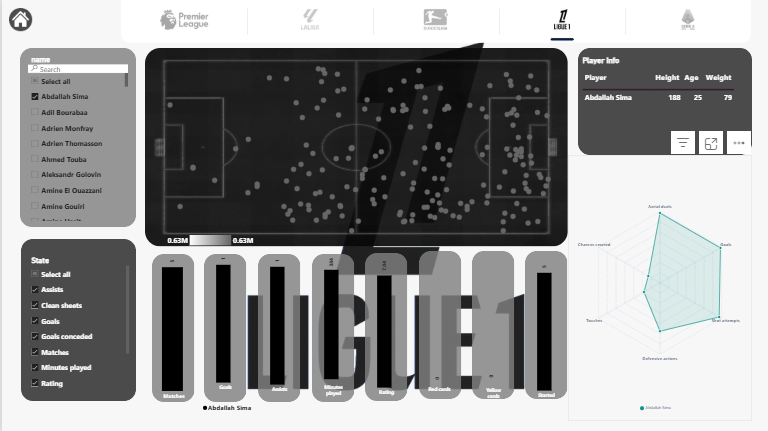

The page's visual inventory and layout, read from the dashboard file:
{"tool":"powerbi","page":{"name":"P_Ligue 1","canvas":[1920,1080],"ordinal":9},"visuals":[{"type":"image","box":[357.5,120,1056.7,495.6],"z":0,"group":"g1"},{"type":"shape","box":[505.7,634.3,106,370],"z":1000},{"type":"shape","box":[640,634.3,106,370],"z":2000},{"type":"shape","box":[774.3,634.3,106,370],"z":3000},{"type":"scatterChart","fields":{"Series":["Player_Dim.name"],"X":["Facts Table.Heatmap_X"],"Y":["Facts Table.Heatmap_Y"]},"box":[396.6,142.2,990.4,491.1],"z":4000,"group":"g1"},{"type":"shape","box":[907.1,632.9,106,370],"z":4000},{"type":"shape","box":[1041.4,627.1,106,370],"z":5000},{"type":"shape","box":[1174.3,627.1,106,370],"z":6000},{"type":"shape","box":[1308.6,627.1,106,370],"z":7000},{"type":"shape","box":[376,634,106,370],"z":8000},{"type":"shape","box":[47.5,597.5,287.5,405],"z":9000},{"type":"shape","box":[45,120,290,447.5],"z":10000},{"type":"image","box":[17.5,15,57.5,67.5],"z":11000},{"type":"image","box":[297.5,0,1575,107.5],"z":12000},{"type":"slicer","fields":{"Values":["Player_Dim.name"]},"box":[65,137.5,250,415],"z":13000},{"type":"group","id":"g1","title":"Group 1","box":[357.5,120,1057.5,512.5],"z":14000},{"type":"slicer","fields":{"Values":["Facts Table.mainLeague_title"]},"box":[65,640,252.5,345],"z":15000},{"type":"clusteredColumnChart","fields":{"Category":["Facts Table.mainLeague_title"],"Series":["Player_Dim.name"],"Y":["Max(Facts Table.mainLeague_value)"]},"box":[214.3,620,430,431.4],"z":16000},{"type":"shape","box":[1440,120,435,267.5],"z":17000},{"type":"clusteredColumnChart","fields":{"Category":["Facts Table.mainLeague_title"],"Series":["Player_Dim.name"],"Y":["Max(Facts Table.mainLeague_value)"]},"box":[600,620,187.5,382.5],"z":18000},{"type":"clusteredColumnChart","fields":{"Category":["Facts Table.mainLeague_title"],"Series":["Player_Dim.name"],"Y":["Max(Facts Table.mainLeague_value)"]},"box":[464,616,187.5,382.5],"z":19000},{"type":"clusteredColumnChart","fields":{"Category":["Facts Table.mainLeague_title"],"Series":["Player_Dim.name"],"Y":["Max(Facts Table.mainLeague_value)"]},"box":[734,628,187.5,382.5],"z":20000},{"type":"clusteredColumnChart","fields":{"Category":["Facts Table.mainLeague_title"],"Series":["Player_Dim.name"],"Y":["Max(Facts Table.mainLeague_value)"]},"box":[868,628,187.5,382.5],"z":21000},{"type":"clusteredColumnChart","fields":{"Category":["Facts Table.mainLeague_title"],"Series":["Player_Dim.name"],"Y":["Max(Facts Table.mainLeague_value)"]},"box":[1000,620,187.5,382.5],"z":22000},{"type":"clusteredColumnChart","fields":{"Category":["Facts Table.mainLeague_title"],"Series":["Player_Dim.name"],"Y":["Max(Facts Table.mainLeague_value)"]},"box":[1134,634,187.5,382.5],"z":23000},{"type":"clusteredColumnChart","fields":{"Category":["Facts Table.mainLeague_title"],"Series":["Player_Dim.name"],"Y":["Max(Facts Table.mainLeague_value)"]},"box":[1268,634,187.5,382.5],"z":24000},{"type":"tableEx","title":"Player Info","fields":{"Values":["Player_Dim.name","Sum(Player_Dim.meta_personJSONLD_height_value)","Player_Dim.Age","Player_Dim.meta_personJSONLD_weight_value"]},"box":[1435,125,415,262.5],"z":25000},{"type":"briqlabRadarPro00AB02FA7F1A4AD68777E9B408C0B9D3","fields":{"value":["Max(Facts Table.trait_value)"],"dimension":["Facts Table.trait_title"],"entity":["Player_Dim.name"]},"box":[1415,387.5,460,665],"z":26000}]}

Visuals, with their boxes on the page's 1920x1080 design canvas (x1, y1, x2, y2). These are canvas units, not pixel positions in the 768x431 screenshot, which may show the page scaled, cropped or inside an application window:
image: BBox(358, 120, 1414, 616)
shape: BBox(506, 634, 612, 1004)
shape: BBox(640, 634, 746, 1004)
shape: BBox(774, 634, 880, 1004)
scatterChart - Player_Dim.name x Facts Table.Heatmap_X: BBox(397, 142, 1387, 633)
shape: BBox(907, 633, 1013, 1003)
shape: BBox(1041, 627, 1147, 997)
shape: BBox(1174, 627, 1280, 997)
shape: BBox(1309, 627, 1415, 997)
shape: BBox(376, 634, 482, 1004)
shape: BBox(48, 598, 335, 1002)
shape: BBox(45, 120, 335, 568)
image: BBox(18, 15, 75, 82)
image: BBox(298, 0, 1872, 108)
slicer - Player_Dim.name: BBox(65, 138, 315, 552)
"Group 1" group: BBox(358, 120, 1415, 632)
slicer - Facts Table.mainLeague_title: BBox(65, 640, 318, 985)
clusteredColumnChart - Facts Table.mainLeague_title x Player_Dim.name: BBox(214, 620, 644, 1051)
shape: BBox(1440, 120, 1875, 388)
clusteredColumnChart - Facts Table.mainLeague_title x Player_Dim.name: BBox(600, 620, 788, 1002)
clusteredColumnChart - Facts Table.mainLeague_title x Player_Dim.name: BBox(464, 616, 652, 998)
clusteredColumnChart - Facts Table.mainLeague_title x Player_Dim.name: BBox(734, 628, 922, 1010)
clusteredColumnChart - Facts Table.mainLeague_title x Player_Dim.name: BBox(868, 628, 1056, 1010)
clusteredColumnChart - Facts Table.mainLeague_title x Player_Dim.name: BBox(1000, 620, 1188, 1002)
clusteredColumnChart - Facts Table.mainLeague_title x Player_Dim.name: BBox(1134, 634, 1322, 1016)
clusteredColumnChart - Facts Table.mainLeague_title x Player_Dim.name: BBox(1268, 634, 1456, 1016)
"Player Info" tableEx: BBox(1435, 125, 1850, 388)
briqlabRadarPro00AB02FA7F1A4AD68777E9B408C0B9D3 - Max(Facts Table.trait_value) x Facts Table.trait_title: BBox(1415, 388, 1875, 1052)
